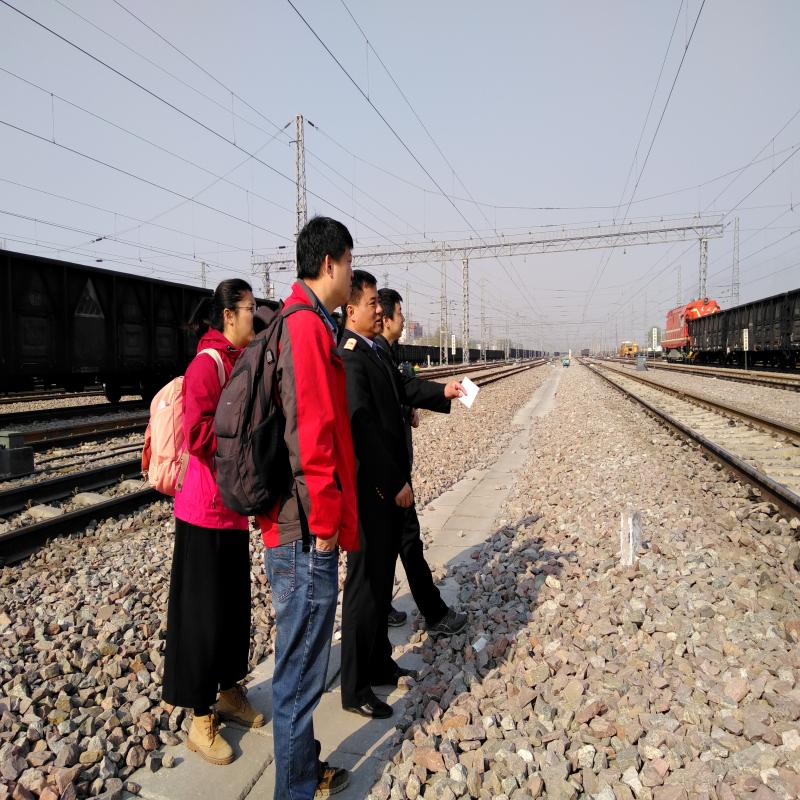train: (660, 306, 717, 360)
